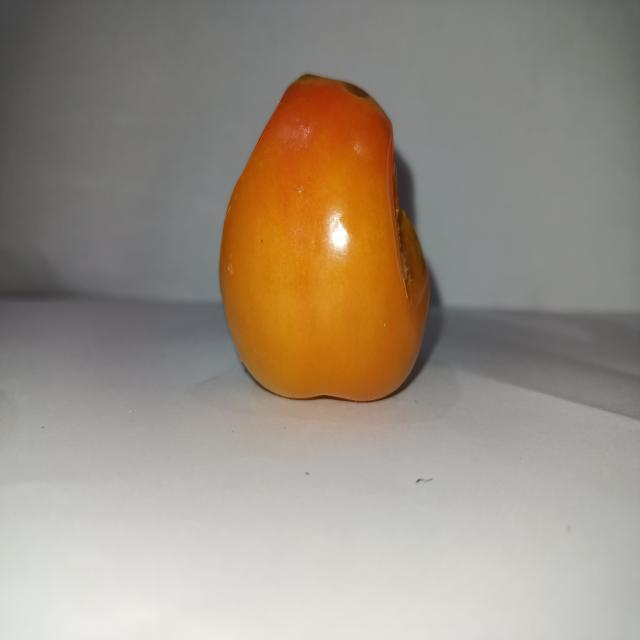Red: (217, 71, 431, 403)
